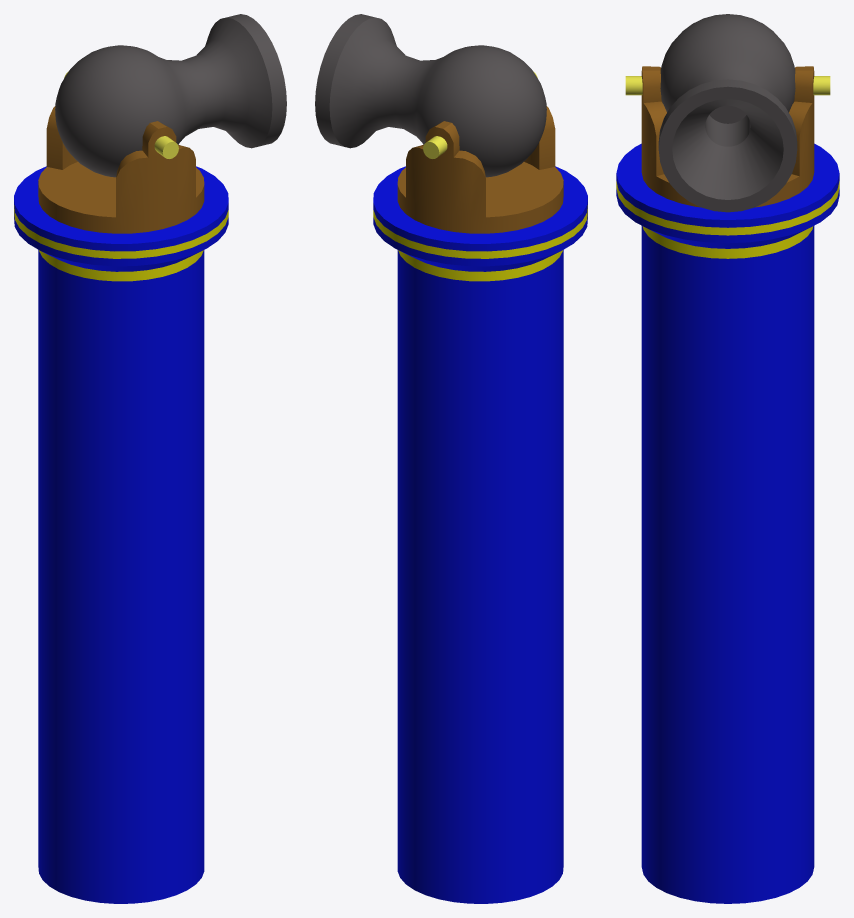
File: Cannon.fbx
3 views of the same model, side by side, from view 1: azimuth 30°, elevation 25°; view 2: azimuth 150°, elevation 25°; view 3: azimuth 270°, elevation 25° (orthographic). The views are drawn at different scales.
Parts seen in each view (by area): view 1: Cylinder, Sphere, Cylinder.001; view 2: Cylinder, Sphere, Cylinder.001; view 3: Cylinder, Sphere, Cylinder.001.
Boxes of the visible parts, left/top/right/bottom form: Cylinder: left=14, top=166, right=228, bottom=903; Sphere: left=55, top=14, right=286, bottom=177; Cylinder.001: left=38, top=106, right=204, bottom=233; Cylinder: left=373, top=166, right=587, bottom=903; Sphere: left=315, top=14, right=546, bottom=177; Cylinder.001: left=397, top=106, right=563, bottom=233; Cylinder: left=616, top=143, right=839, bottom=903; Sphere: left=625, top=14, right=830, bottom=212; Cylinder.001: left=641, top=66, right=814, bottom=207.
Size of the model in its own units: 313 by 1085 by 259.
